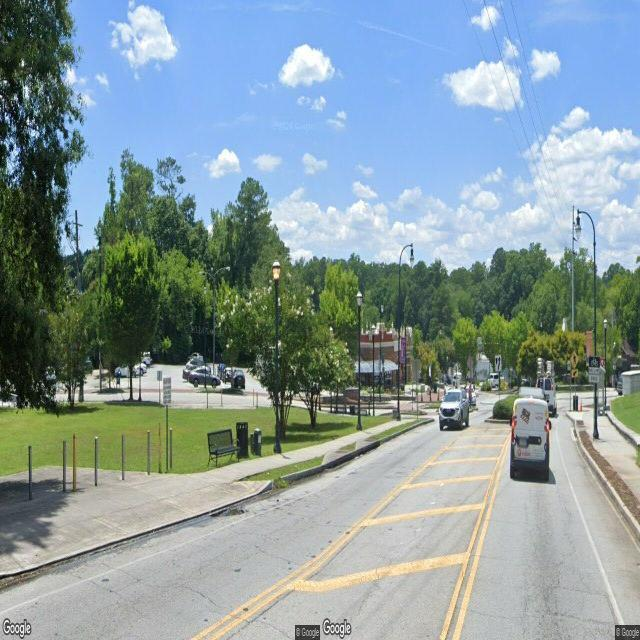seating: (207, 426, 241, 464)
shelter: (596, 366, 607, 416)
trash_can: (236, 422, 248, 457), (573, 394, 578, 410)
